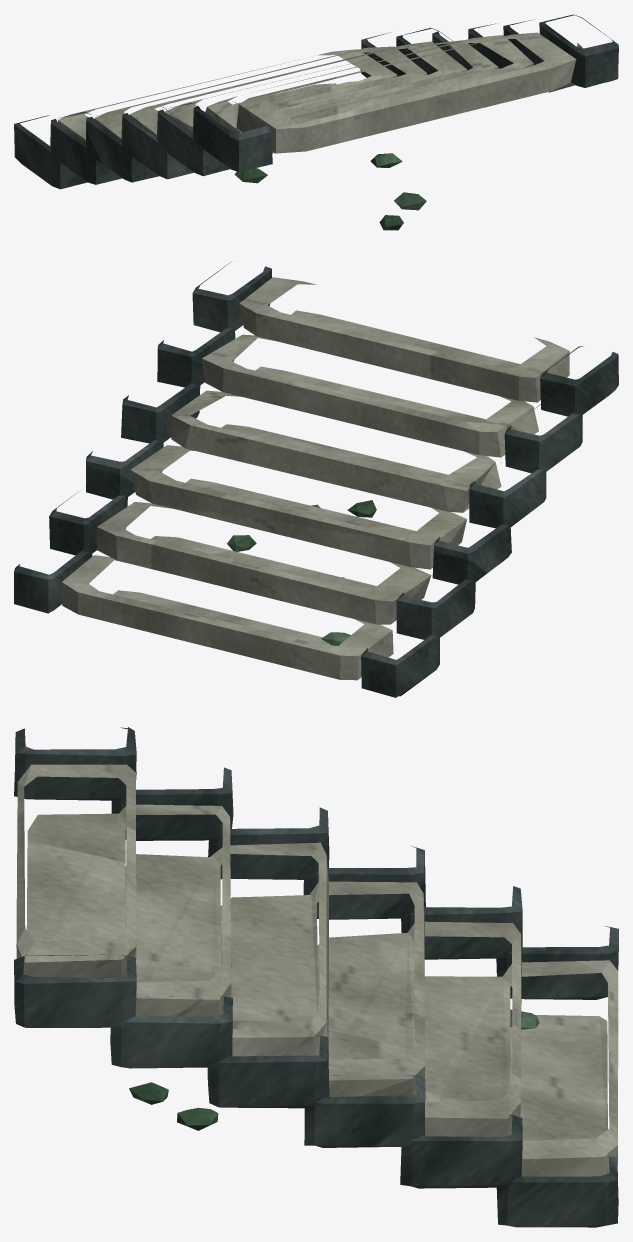
File: 0363_stairs_13.glb
3 views of the same model, one above another, from view 1: azimuth 30°, elevation 25°; view 2: azimuth 150°, elevation 25°; view 3: azimuth 270°, elevation 25° (orthographic). The views are drawn at different scales.
Visible parts, largest first — view 1: stone_light, stone_dark, moss; view 2: stone_light, stone_dark, moss; view 3: stone_light, stone_dark, moss.
Boxes of the visible parts, box(x1,y1,x2,y2) form: stone_light: box(58, 32, 576, 153); stone_dark: box(14, 14, 618, 189); moss: box(234, 153, 426, 230); stone_light: box(62, 277, 569, 680); stone_dark: box(14, 261, 618, 697); moss: box(227, 500, 376, 645); stone_light: box(16, 764, 618, 1176); stone_dark: box(14, 727, 618, 1227); moss: box(129, 1009, 539, 1130).
Bounding box in the file's own units: 2.75 × 1.27 × 2.76.
Materials: 3 (3 with a texture image).
